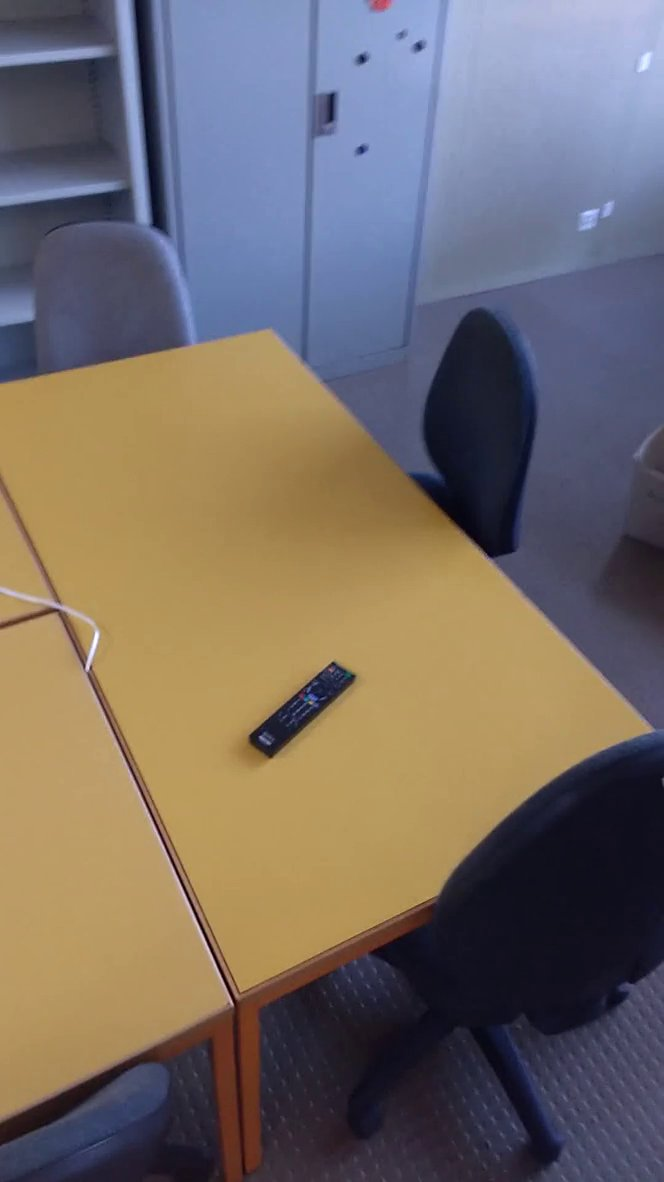chair: (391, 302, 555, 580), (24, 213, 224, 394)
remote: (244, 655, 370, 766)
